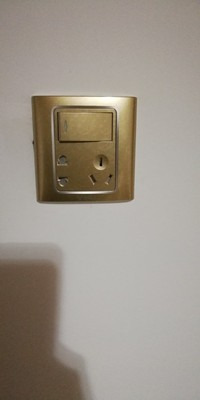switch: (49, 104, 121, 144)
